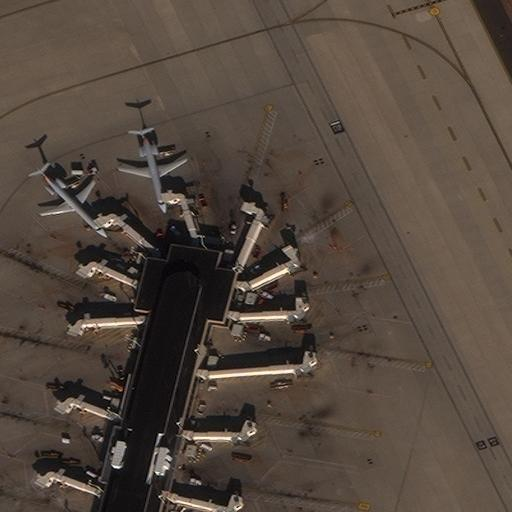Medium Civil Transport: (119, 129, 187, 213), (35, 166, 107, 237)
